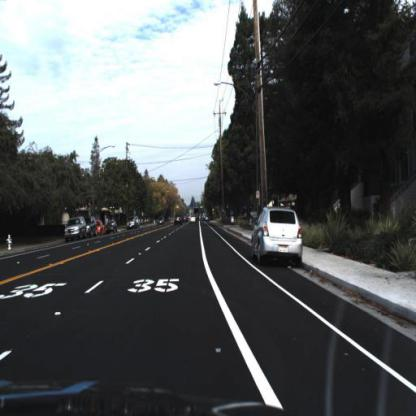car: (249, 202, 304, 272), (252, 205, 305, 260), (63, 217, 90, 242), (62, 217, 86, 243), (84, 217, 96, 238), (104, 222, 118, 236), (96, 219, 106, 237), (126, 217, 138, 231)
